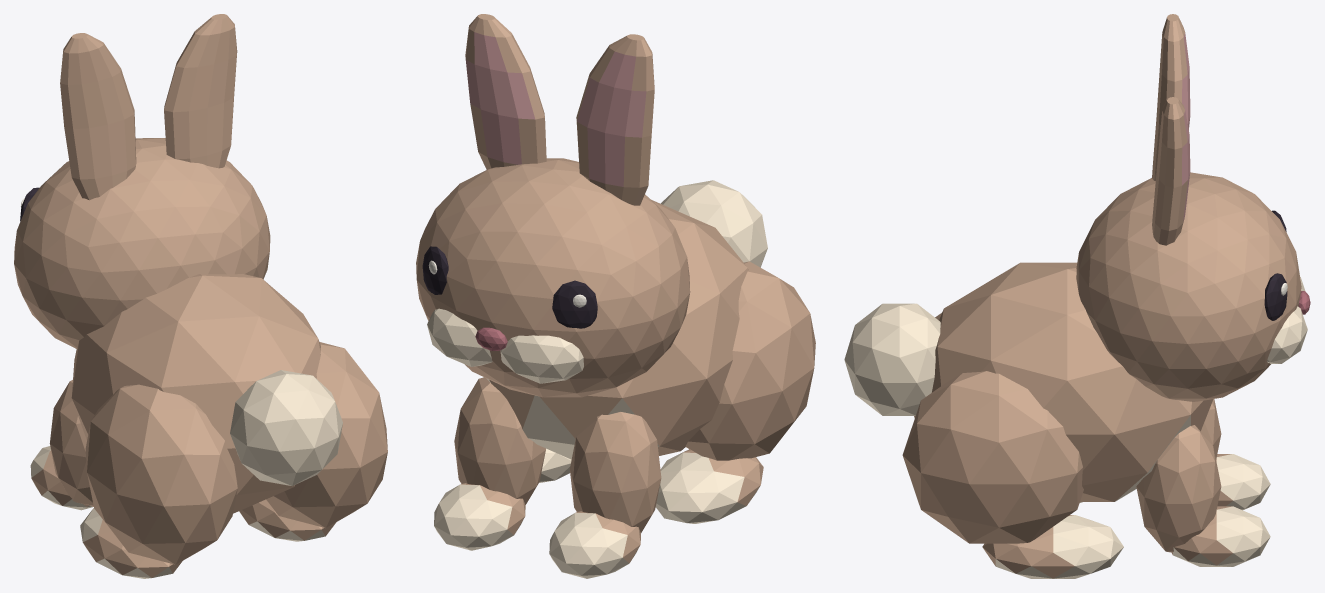
Rendered from wild_rabbit.glb.
The picture shows the model from 3 angles, left to right: view 1: azimuth 30°, elevation 25°; view 2: azimuth 150°, elevation 25°; view 3: azimuth 270°, elevation 25°; orthographic projection. The views are drawn at different scales.
Parts seen in each view (by area): view 1: wide round head, low pear-shaped torso, round haunch, round haunch.001, cream cotton tail, rounded ear with rose inset, rounded ear with rose inset.001, short foreleg, tucked hind paw, tucked hind paw.001, rounded front paw; view 2: wide round head, low pear-shaped torso, round haunch, rounded ear with rose inset, rounded ear with rose inset.001, short foreleg, short foreleg.001, tucked hind paw, rounded front paw.001, rounded front paw, cream cotton tail, large dark eye (+3 smaller); view 3: wide round head, low pear-shaped torso, round haunch.001, cream cotton tail, short foreleg.001, tucked hind paw.001, rounded ear with rose inset.001, rounded front paw.001, rounded ear with rose inset, rounded front paw, large dark eye.001, short foreleg.
Part boxes in pixels (x1=…): wide round head: x1=14, y1=138, x2=270, y2=348; low pear-shaped torso: x1=71, y1=273, x2=320, y2=513; round haunch: x1=85, y1=384, x2=237, y2=564; round haunch.001: x1=266, y1=342, x2=387, y2=527; cream cotton tail: x1=230, y1=370, x2=342, y2=485; rounded ear with rose inset: x1=60, y1=33, x2=136, y2=200; rounded ear with rose inset.001: x1=164, y1=14, x2=237, y2=168; short foreleg: x1=49, y1=380, x2=93, y2=506; tucked hind paw: x1=80, y1=508, x2=182, y2=578; tucked hind paw.001: x1=239, y1=499, x2=336, y2=541; rounded front paw: x1=30, y1=446, x2=92, y2=510; wide round head: x1=416, y1=158, x2=690, y2=397; low pear-shaped torso: x1=483, y1=199, x2=748, y2=459; round haunch: x1=685, y1=261, x2=815, y2=460; rounded ear with rose inset: x1=576, y1=34, x2=654, y2=205; rounded ear with rose inset.001: x1=465, y1=14, x2=546, y2=169; short foreleg: x1=569, y1=412, x2=661, y2=532; short foreleg.001: x1=454, y1=377, x2=545, y2=504; tucked hind paw: x1=655, y1=449, x2=763, y2=523; rounded front paw.001: x1=434, y1=483, x2=525, y2=550; rounded front paw: x1=549, y1=511, x2=640, y2=578; cream cotton tail: x1=660, y1=180, x2=767, y2=267; large dark eye: x1=552, y1=280, x2=597, y2=328; wide round head: x1=1076, y1=172, x2=1307, y2=401; low pear-shaped torso: x1=932, y1=262, x2=1213, y2=501; round haunch.001: x1=902, y1=371, x2=1083, y2=543; cream cotton tail: x1=844, y1=303, x2=940, y2=415; short foreleg.001: x1=1136, y1=425, x2=1221, y2=552; tucked hind paw.001: x1=982, y1=515, x2=1123, y2=578; rounded ear with rose inset.001: x1=1152, y1=97, x2=1190, y2=245; rounded front paw.001: x1=1172, y1=506, x2=1270, y2=566; rounded ear with rose inset: x1=1152, y1=14, x2=1190, y2=180; rounded front paw: x1=1216, y1=454, x2=1270, y2=510; large dark eye.001: x1=1264, y1=273, x2=1287, y2=320; short foreleg: x1=1201, y1=399, x2=1221, y2=459.
Size of the model in its own units: 0.4595 by 0.7932 by 0.69.
